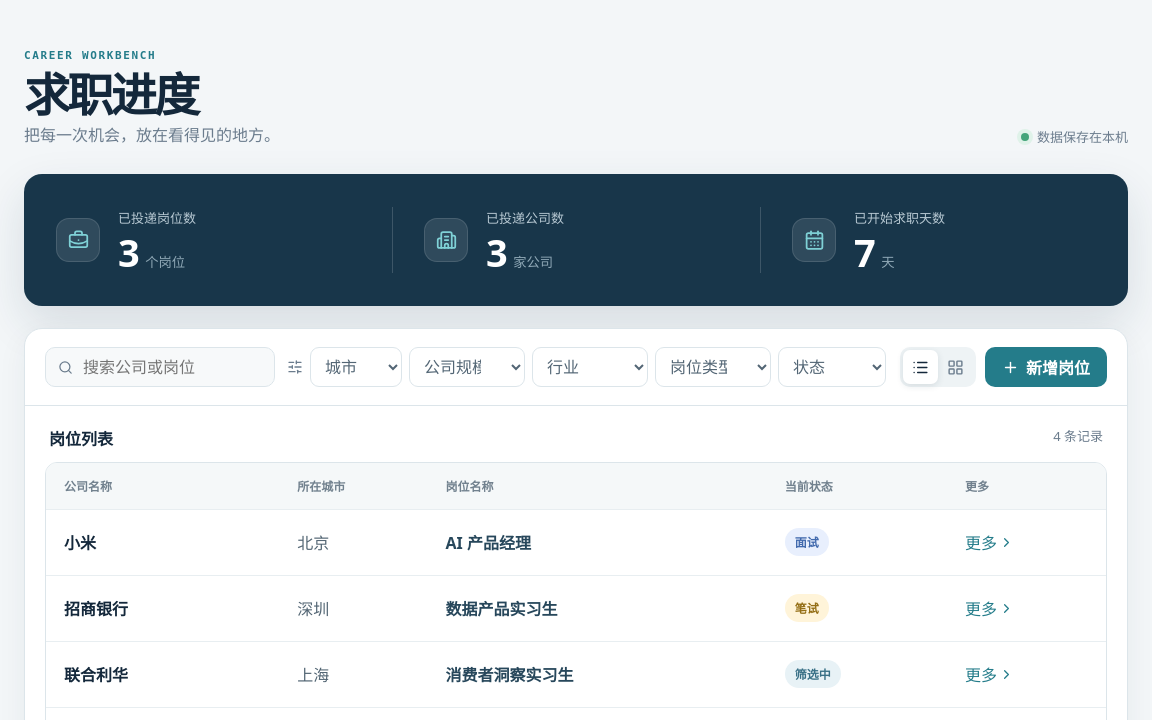
Test: opens the add position panel
Click the button "新增岗位". click: (1046, 367)
box: [985,347,1107,387]
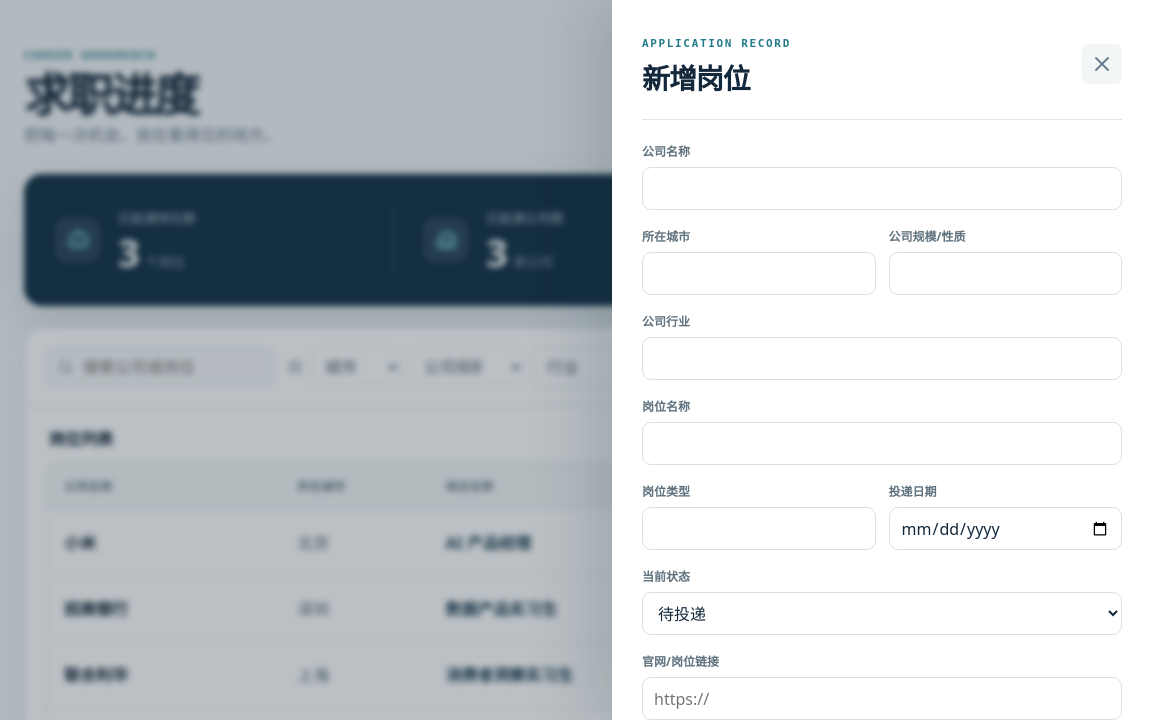
Expected: the dialog "新增岗位" is shown, [612,0,1151,719]
Expected: the field labelled "公司名称" is shown, [642,167,1122,210]
Expected: the field labelled "岗位名称" is shown, [642,422,1122,465]
